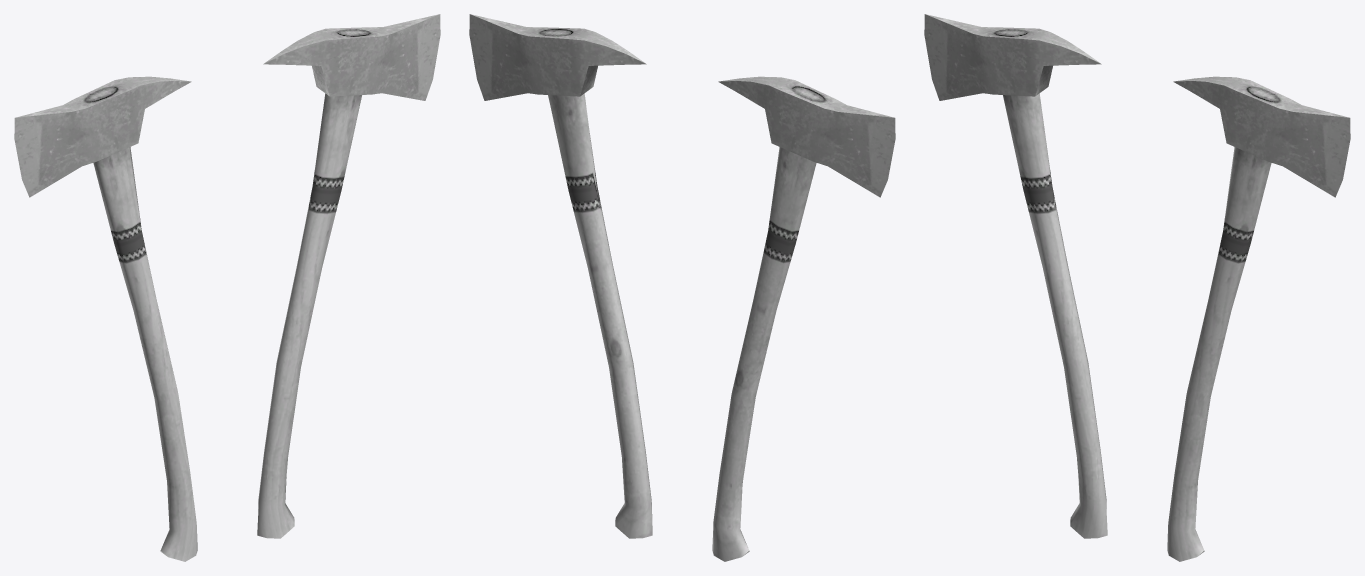
The model's file is F_Backpack_DoubleAxes.glb.
3 views of the same model, side by side, from view 1: azimuth 30°, elevation 25°; view 2: azimuth 150°, elevation 25°; view 3: azimuth 330°, elevation 25° (orthographic).
Bounding box in the file's own units: 41.49 × 45.36 × 2.44.
1 material, 1 textured.
